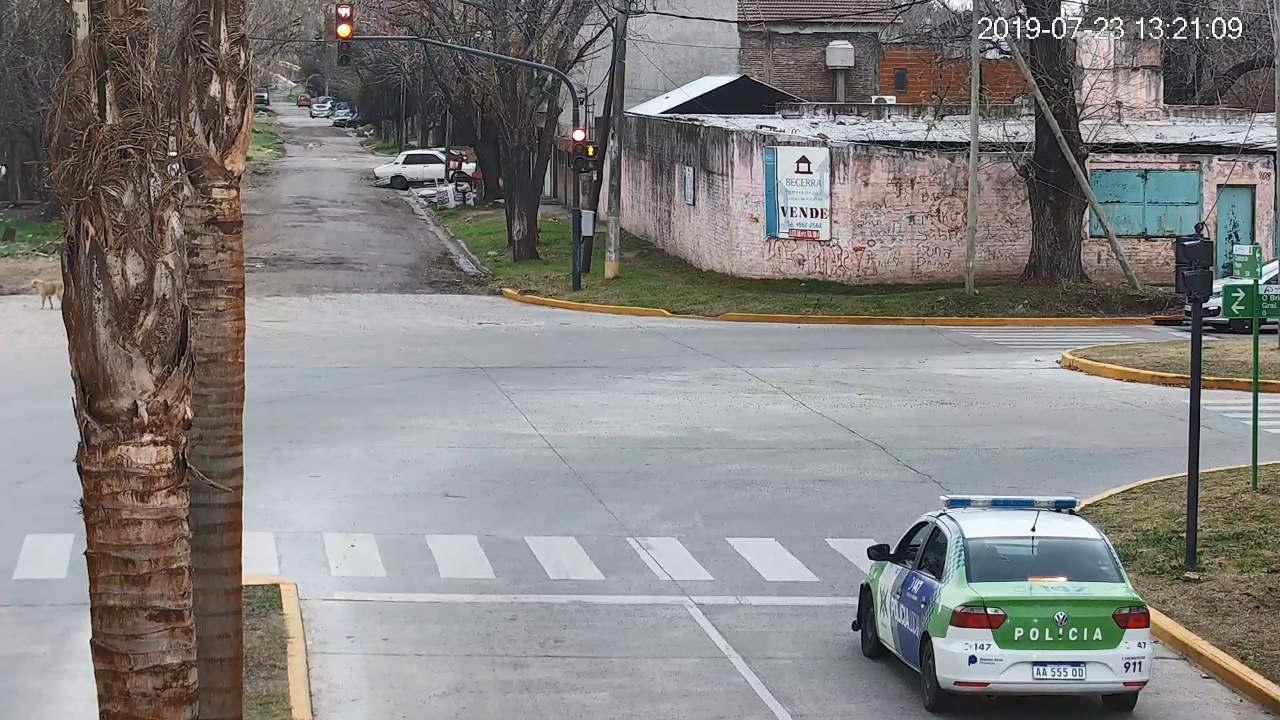police car: (851, 494, 1152, 713)
traffic light: (336, 22, 353, 65), (572, 128, 585, 170)
